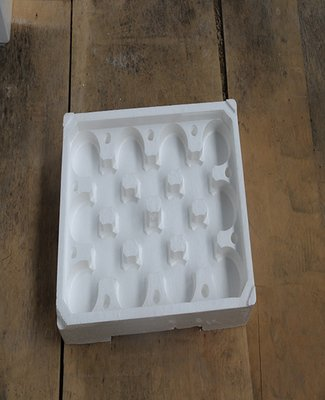5/可回收垃圾/泡沫: (54, 99, 257, 343)
